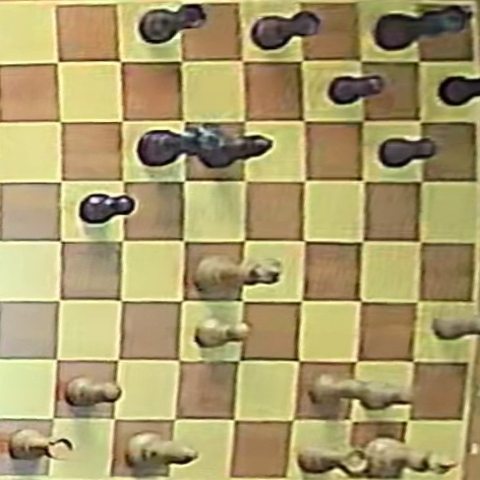black-bishop: (200, 133, 274, 172)
black-king: (375, 5, 471, 51)
black-pawn: (329, 74, 385, 105), (380, 137, 437, 167), (80, 194, 135, 224), (440, 74, 480, 106)
black-queen: (136, 126, 228, 168)
black-rook: (252, 11, 320, 50), (140, 4, 206, 44)
white-bishop: (125, 431, 199, 470)
white-king: (362, 437, 452, 477)
white-pawn: (194, 318, 251, 348), (66, 376, 121, 407), (309, 374, 365, 404), (356, 382, 409, 410), (432, 315, 478, 339)
white-queen: (193, 254, 279, 295)
white-rook: (299, 445, 370, 475), (9, 428, 73, 460)
